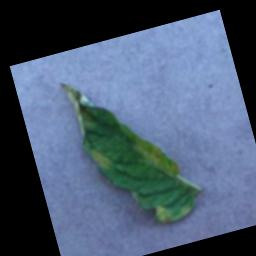Leaf_Mold: (131, 128, 181, 184), (152, 196, 192, 225), (87, 144, 116, 173)
